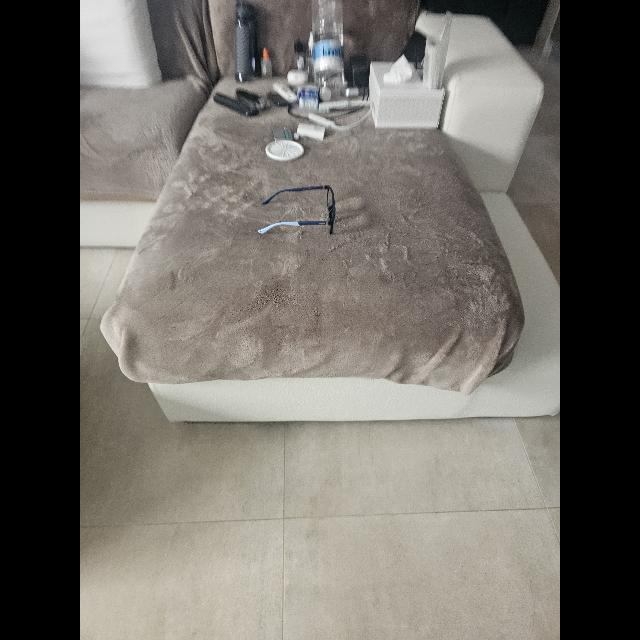glasses: (258, 186, 336, 234)
